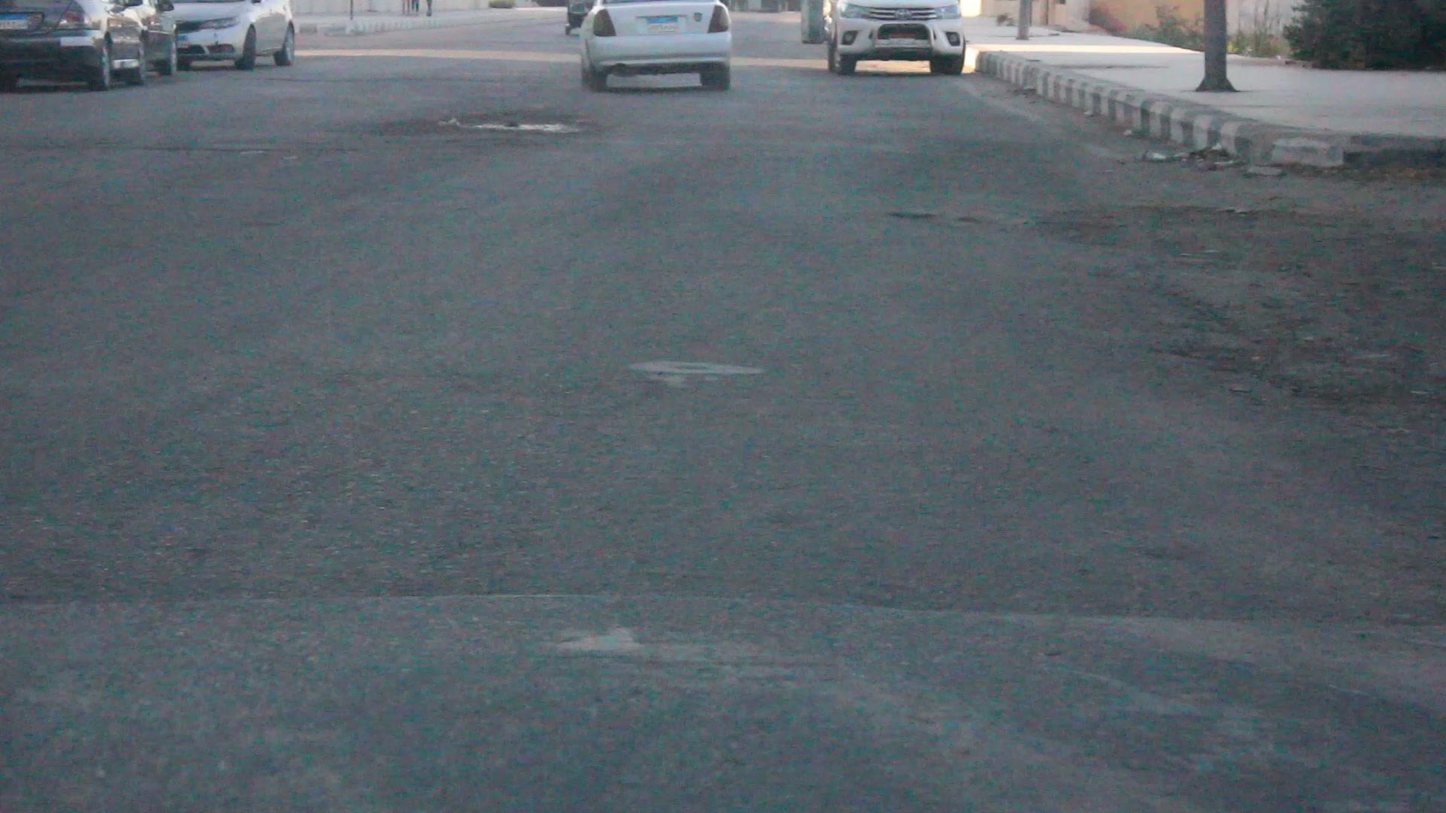Bump: (0, 590, 1445, 810)
Pothole: (975, 205, 1445, 406), (386, 110, 601, 136)
